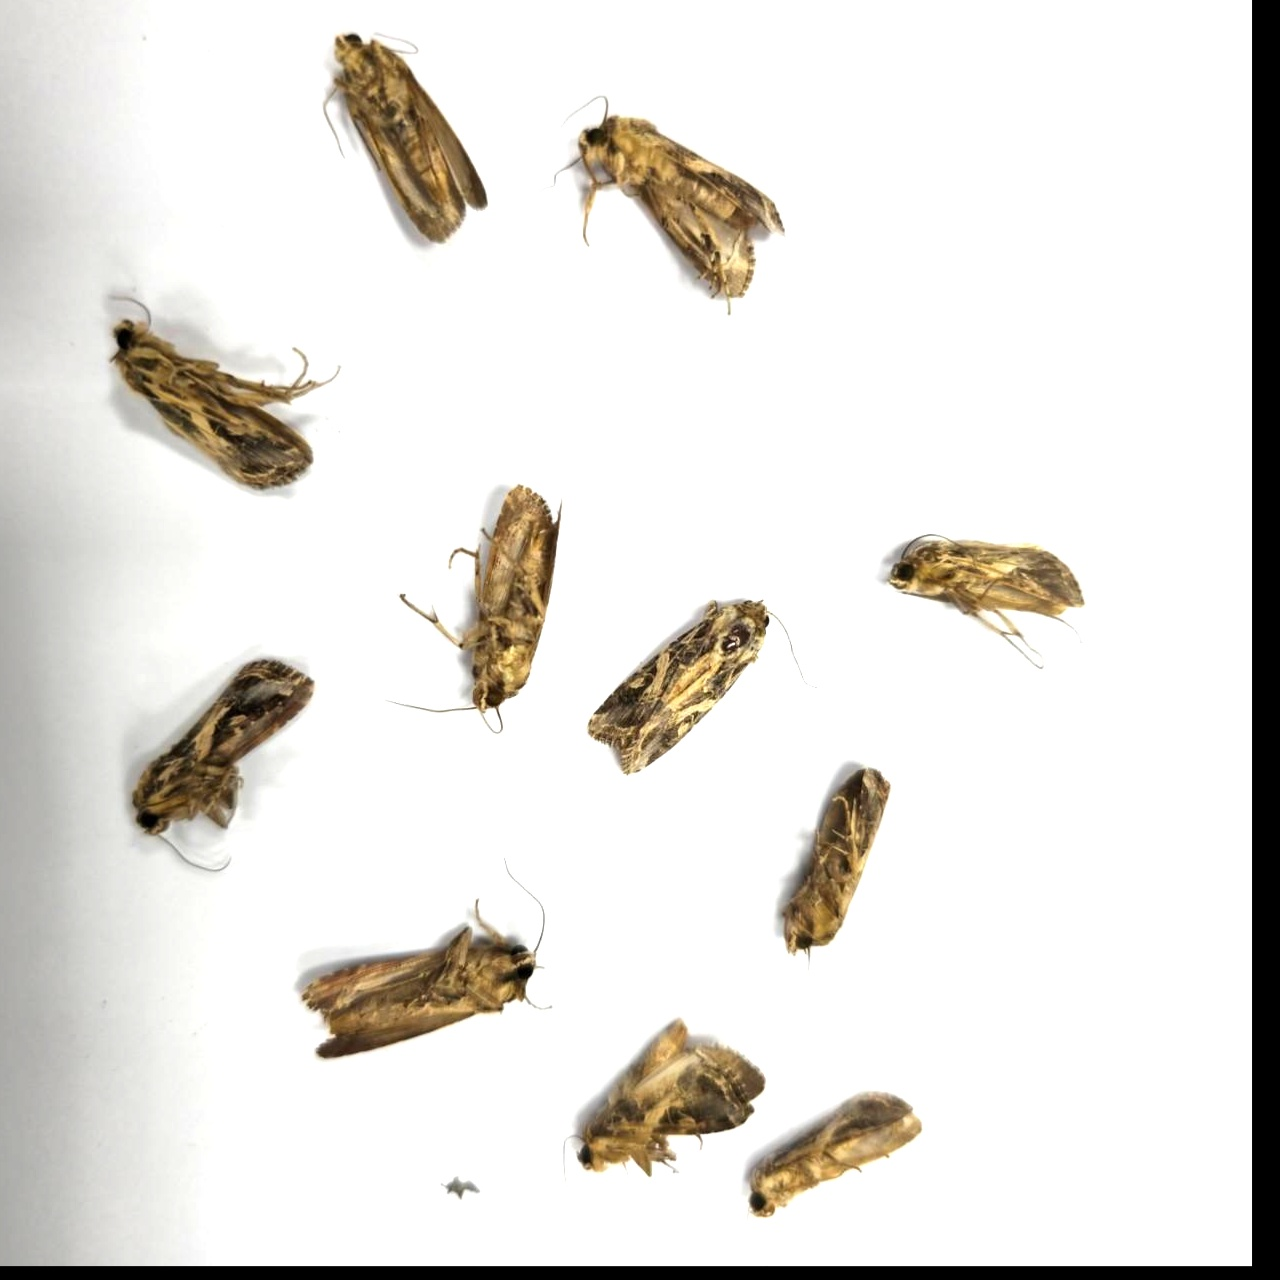Spodoptera litura: (535, 94, 787, 316), (300, 857, 553, 1058), (108, 295, 342, 492), (384, 483, 563, 734), (561, 1017, 765, 1219), (588, 598, 818, 776), (132, 658, 313, 871), (322, 29, 490, 245), (745, 1090, 922, 1264), (751, 767, 891, 983), (888, 533, 1085, 669)
